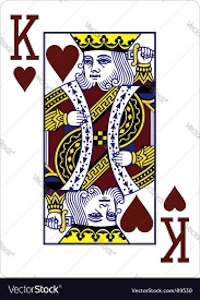KingOfHearts: (3, 1, 200, 280)
